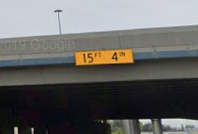1: (80, 52, 87, 64)
4: (109, 50, 119, 62)
5: (86, 50, 93, 64)
overheadsign: (75, 48, 133, 68)
